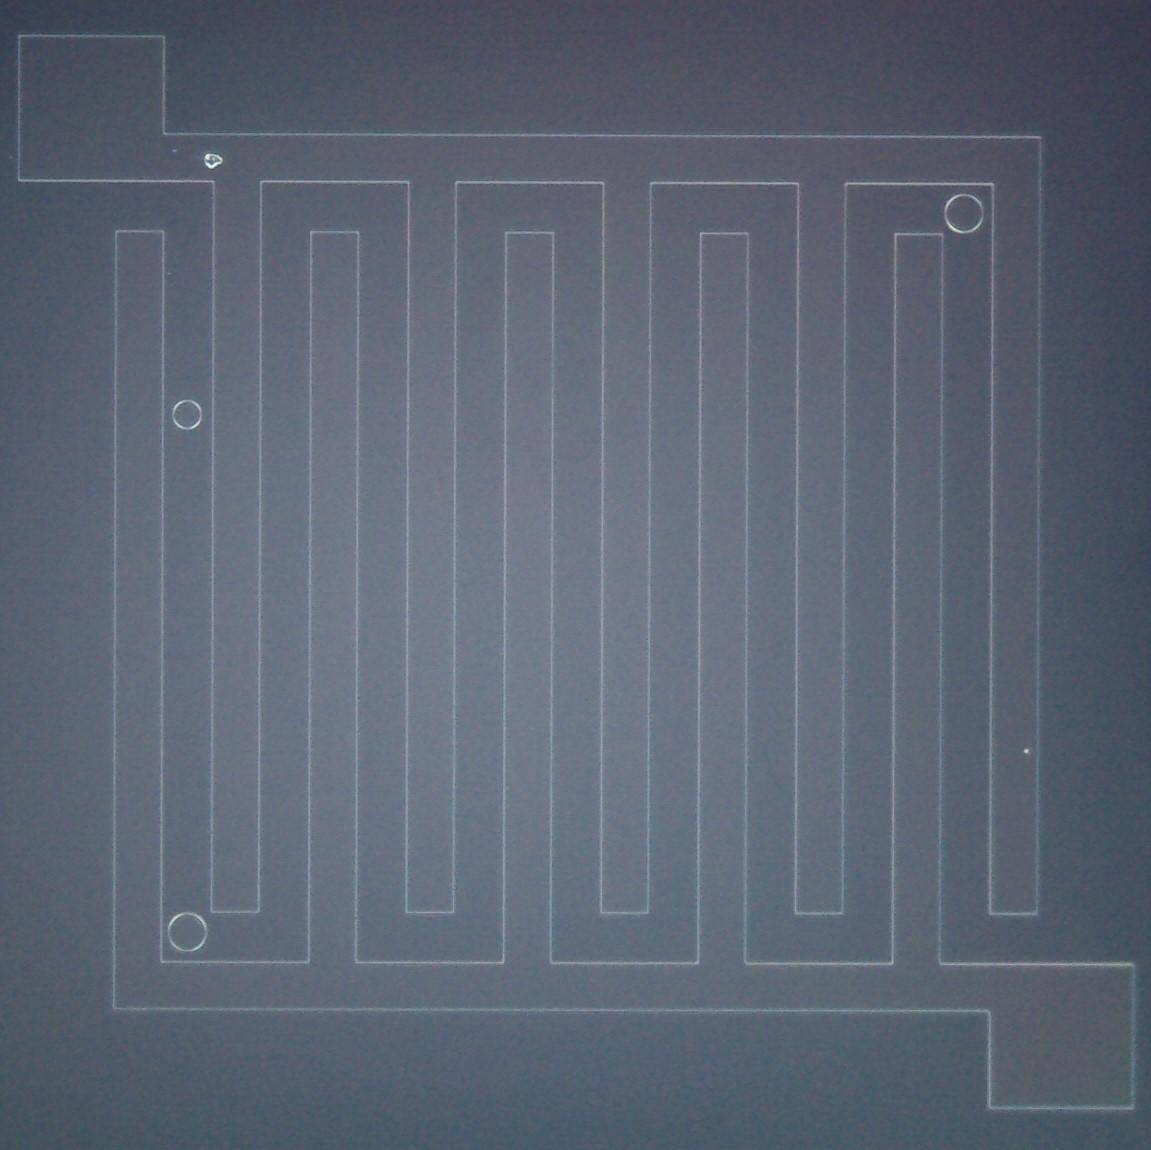B_point: (202, 152, 224, 170)
circle: (167, 911, 209, 954), (944, 192, 985, 235), (172, 397, 202, 431)
s_point: (1019, 743, 1033, 758), (4, 150, 17, 165), (164, 267, 176, 281), (168, 145, 180, 157)
